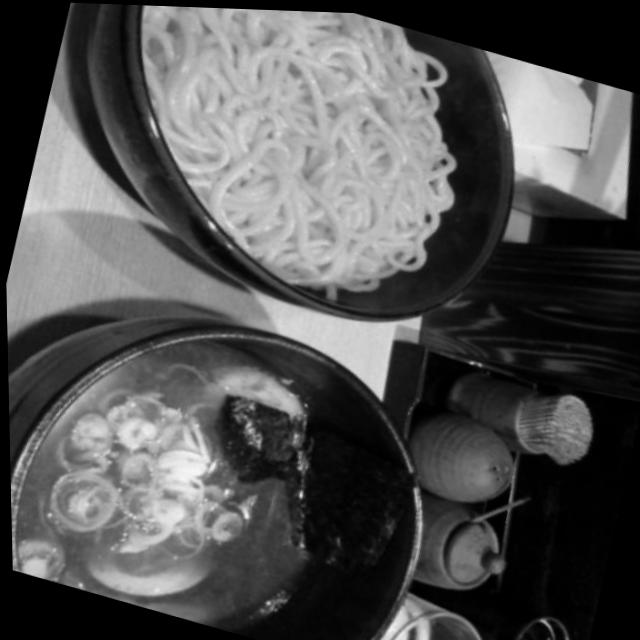面条主食: (0, 0, 566, 640)
